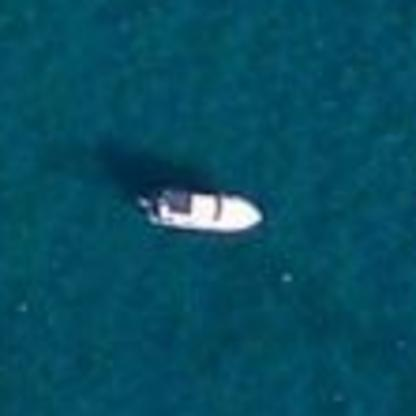ship: (124, 174, 276, 248)
